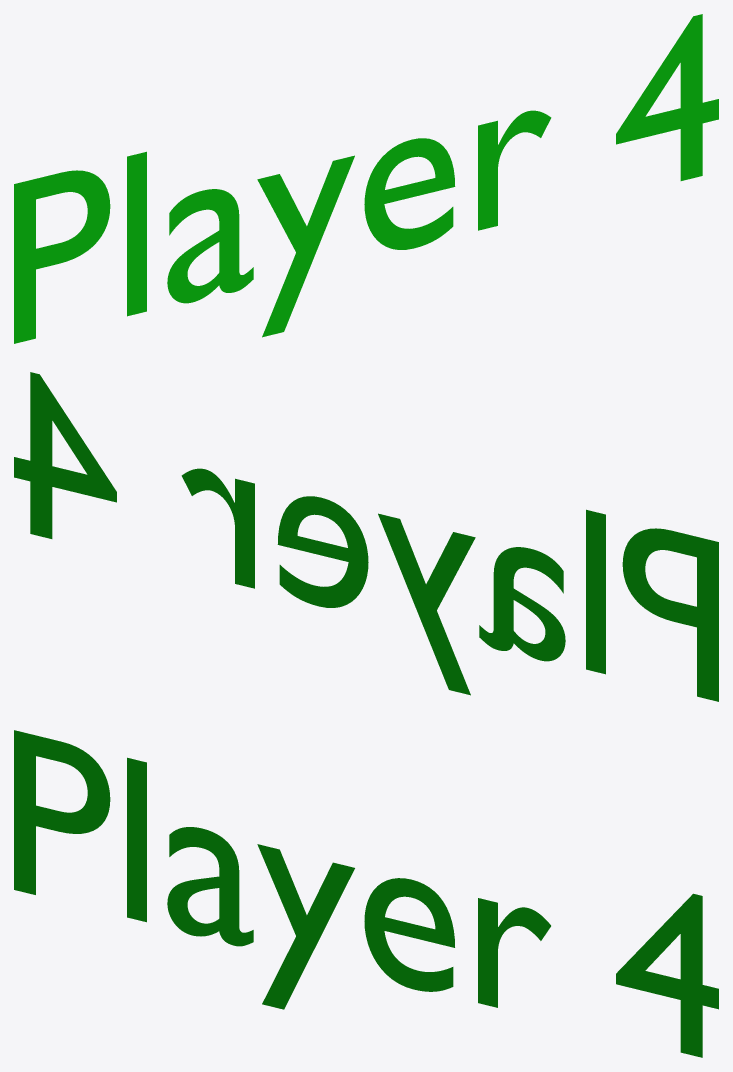
3 views of the same model, one above another, from view 1: azimuth 30°, elevation 25°; view 2: azimuth 150°, elevation 25°; view 3: azimuth 330°, elevation 25° (orthographic).
Parts seen in each view (by area): view 1: Text; view 2: Text; view 3: Text.
Part boxes in pixels (x1,y1,x2,y2): Text: (14,14,718,343); Text: (14,372,718,701); Text: (14,730,718,1057).
Bounding box in the file's own units: 3.15 × 0.921 × 0.
